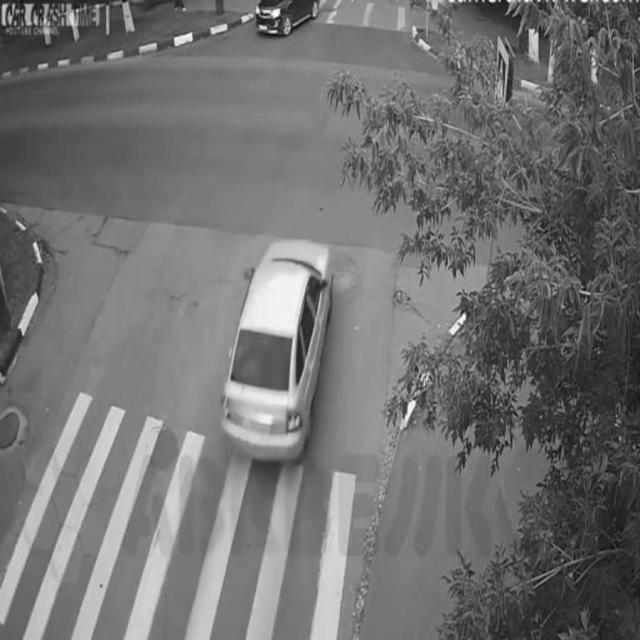vehicle: (226, 230, 337, 457), (252, 0, 324, 41)
